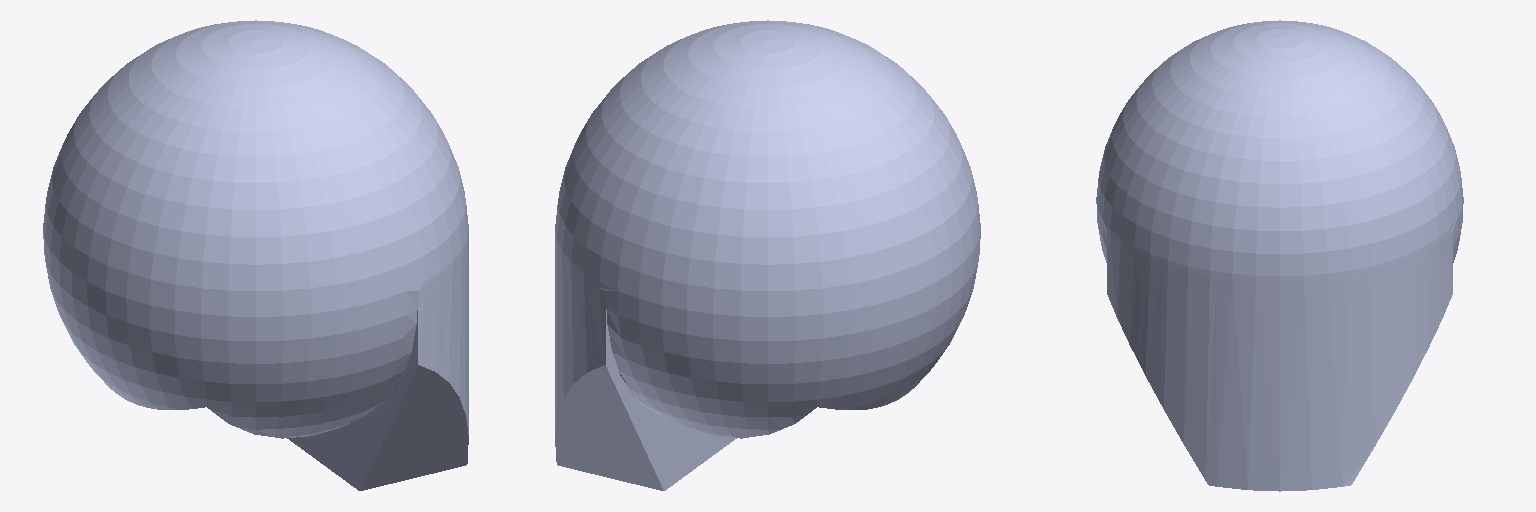
URDF robot description (human):
<?xml version="1.0" ?>
<robot name="human">
  <link
    name="head_link">
    <inertial>
      <origin
        xyz="0.00931747164111318 -9.91266701204326E-09 2.0105706865051194"
        rpy="0 0 0" />
      <mass
        value="3.9328527892651" />
      <inertia
        ixx="0.0165678861121358"
        ixy="8.90148620513218E-10"
        ixz="-0.0027682732644648"
        iyy="0.0177023015774365"
        iyz="-5.42183952528328E-09"
        izz="0.0166046206450058" />
    </inertial>
    <visual>
      <origin
        xyz="0 0 2"
        rpy="0 0 0" />
      <geometry>
        <mesh
          filename="package://hrl_gazebo_autobed/urdf/meshes/head_link.STL" />
      </geometry>
      <material
        name="">
        <color
          rgba="0.792156862745098 0.819607843137255 0.933333333333333 1" />
      </material>
    </visual>
    <collision>
      <origin
        xyz="0 0 2"
        rpy="0 0 0" />
      <geometry>
        <mesh
          filename="package://hrl_gazebo_autobed/urdf/meshes/head_link.STL" />
      </geometry>
    </collision>
  </link>
</robot>

--- What the picture shows (computed from the rendered views, not written in the file) ---
Views: 3 orthographic renders of the robot side by side, from view 1: azimuth 30°, elevation 25°; view 2: azimuth 150°, elevation 25°; view 3: azimuth 270°, elevation 25°.
Model human with 1 links and 0 joints (none), rooted at head_link, posed every joint at zero.
Links seen in each view (by area): view 1: head_link; view 2: head_link; view 3: head_link.
Link boxes in pixels (x1,y1,x2,y2): head_link: (43, 20, 468, 490); head_link: (555, 20, 980, 490); head_link: (1096, 20, 1463, 491).
Size in the robot's own frame: 0.1955 by 0.1955 by 0.221 metres.
1 mesh visuals loaded from 1 distinct referenced files (1 binary STL).